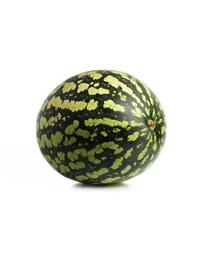watermelon: (35, 68, 168, 187)
